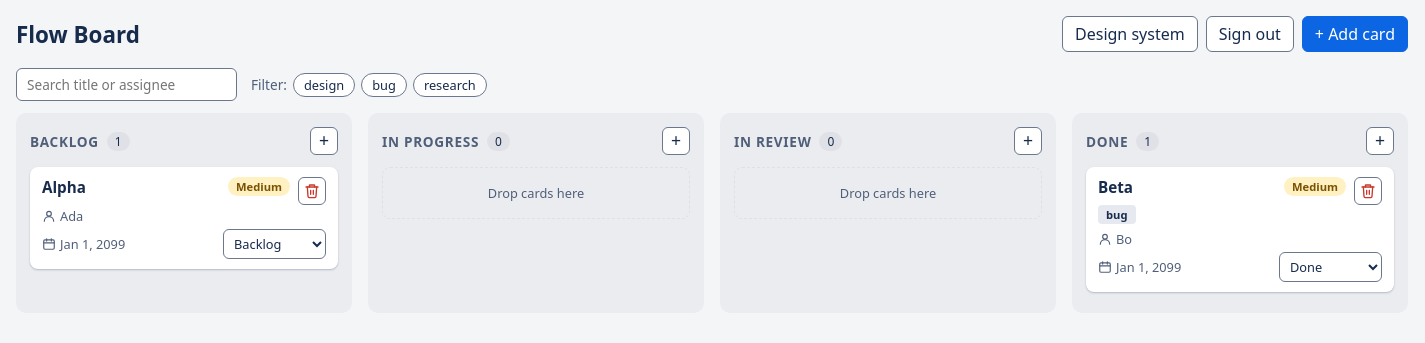
moving a card › REGRESSION: a failed move rolls the card back and shows the error banner
Expected: the button "Alpha" is shown, left=42, top=177, right=86, bottom=197
Select "Done" in the dropdown named "Move \"Alpha\" to column" below "Ada" at (274, 244), box left=223, top=229, right=326, bottom=259
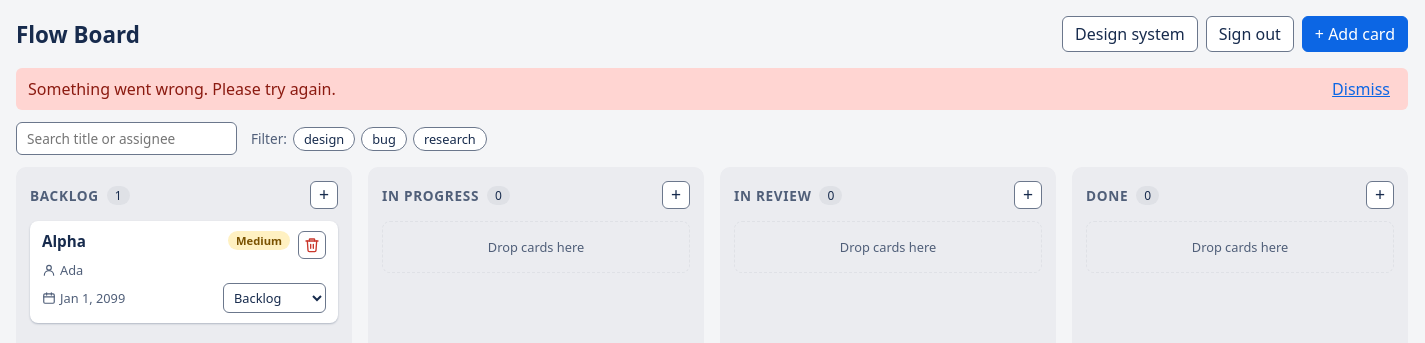
Expected: the button "Alpha" is shown, left=42, top=231, right=86, bottom=251
Expected: the message shows "Something went wrong", left=28, top=78, right=336, bottom=100
